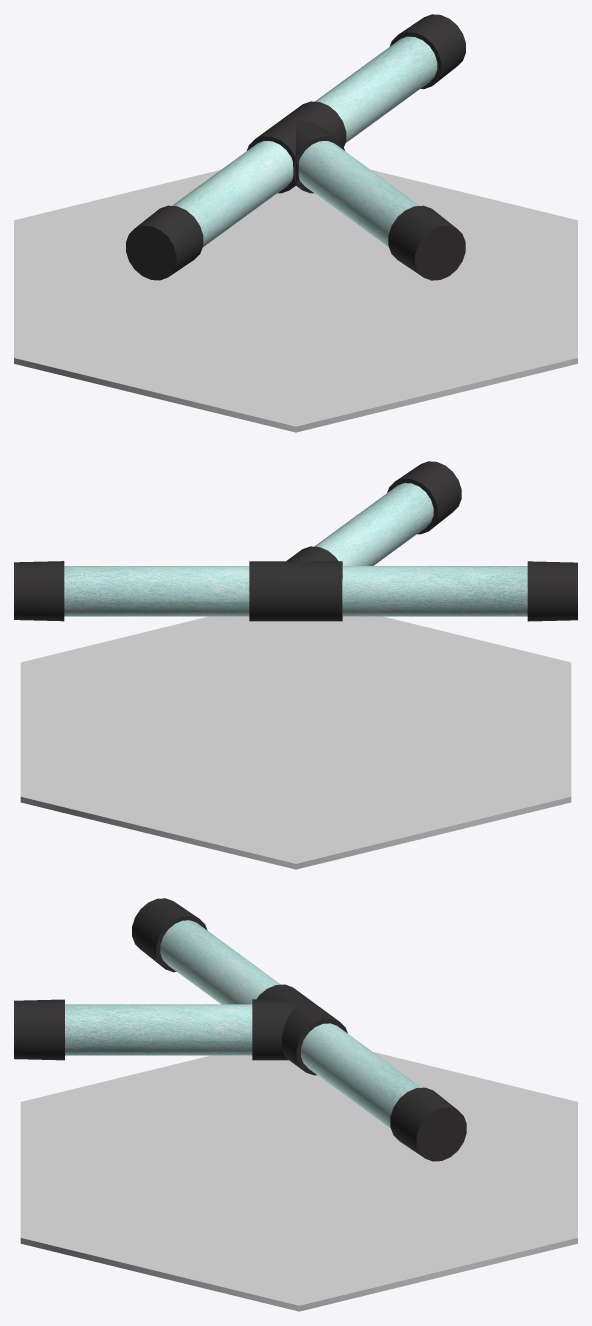
The model's file is tri2.FBX.
3 views of the same model, one above another, from view 1: azimuth 30°, elevation 25°; view 2: azimuth 150°, elevation 25°; view 3: azimuth 270°, elevation 25° (orthographic). The views are drawn at different scales.
Visible parts, largest first — view 1: Cylinder014, Cylinder015, Cylinder013; view 2: Cylinder014, Cylinder015, Cylinder013; view 3: Cylinder014, Cylinder015, Cylinder013.
Part boxes in pixels (x1,y1,x2,y2): Cylinder014: (14, 170, 577, 432); Cylinder015: (126, 14, 465, 280); Cylinder013: (293, 119, 465, 280); Cylinder014: (20, 616, 571, 869); Cylinder015: (14, 561, 577, 621); Cylinder013: (286, 461, 461, 565); Cylinder014: (20, 1052, 577, 1311); Cylinder015: (132, 898, 466, 1161); Cylinder013: (14, 999, 298, 1060).
Size of the model in its own units: 100 by 29.75 by 87.66.
Materials: 2 (2 with a texture image).
